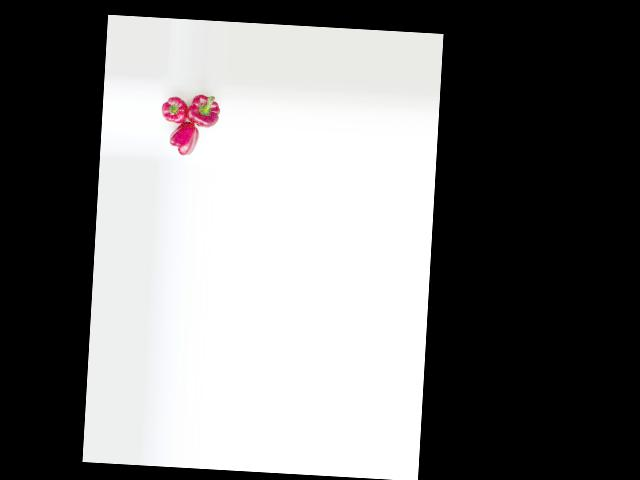bell_pepper: (162, 119, 202, 160)
